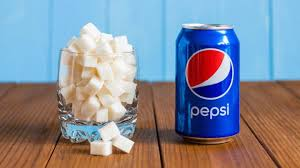Pepsi: (177, 21, 242, 143)
